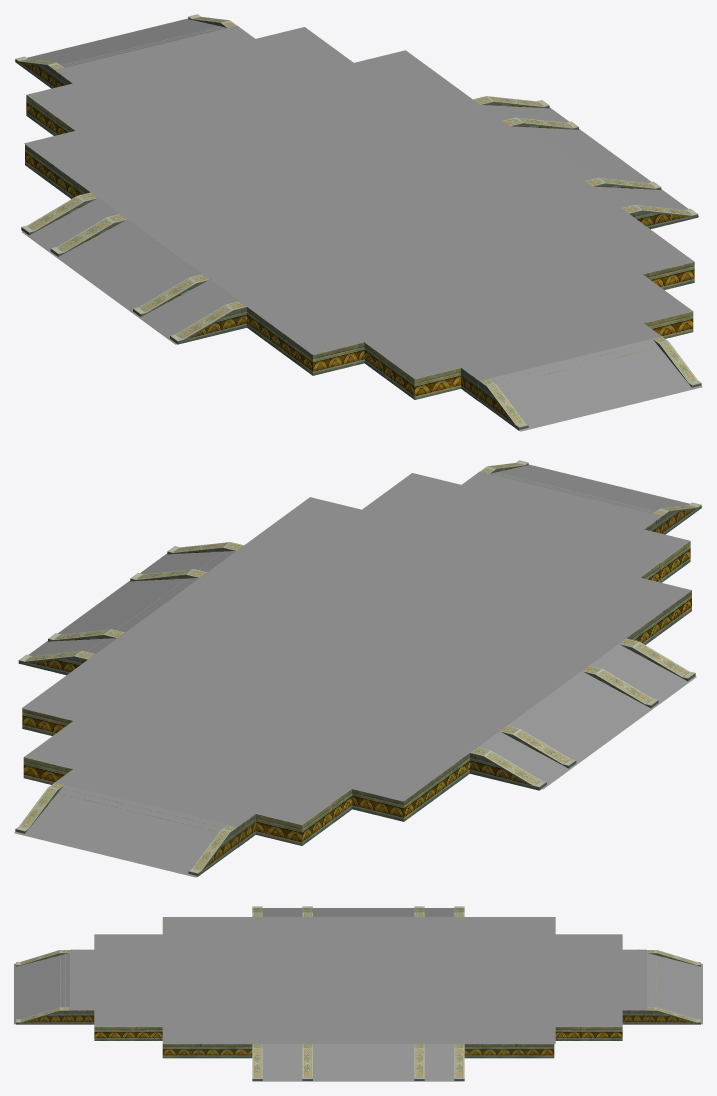
The model's file is WDwulindahui_04.FBX.
3 renders of one model, top to bottom at view 1: azimuth 30°, elevation 25°; view 2: azimuth 150°, elevation 25°; view 3: azimuth 270°, elevation 25°, orthographic. The views are drawn at different scales.
Parts seen in each view (by area): view 1: Plane003, wulindahui04, louti04_03, louti04_04, louti04_01, louti04_02; view 2: Plane003, wulindahui04, louti04_03, louti04_04, louti04_02, louti04_01; view 3: Plane003, wulindahui04, louti04_04, louti04_01, louti04_02, louti04_03.
Boxes of the visible parts, x1=… form: Plane003: x1=14, y1=18, x2=702, y2=431; wulindahui04: x1=25, y1=27, x2=694, y2=399; louti04_03: x1=21, y1=192, x2=246, y2=344; louti04_04: x1=473, y1=96, x2=698, y2=229; louti04_01: x1=461, y1=336, x2=701, y2=430; louti04_02: x1=15, y1=14, x2=236, y2=88; Plane003: x1=14, y1=464, x2=702, y2=877; wulindahui04: x1=22, y1=473, x2=691, y2=845; louti04_03: x1=470, y1=638, x2=695, y2=790; louti04_04: x1=18, y1=542, x2=243, y2=675; louti04_02: x1=15, y1=782, x2=255, y2=876; louti04_01: x1=480, y1=460, x2=701, y2=534; Plane003: x1=14, y1=908, x2=702, y2=1081; wulindahui04: x1=94, y1=917, x2=622, y2=1058; louti04_04: x1=252, y1=1044, x2=464, y2=1081; louti04_01: x1=16, y1=949, x2=94, y2=1024; louti04_02: x1=622, y1=949, x2=700, y2=1024; louti04_03: x1=252, y1=906, x2=464, y2=916.
Size of the model in its own units: 15.58 by 0.6033 by 26.08.
